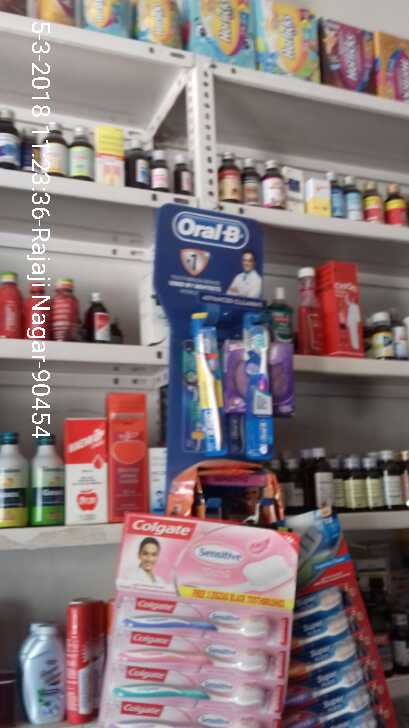oralb: (187, 312, 228, 454), (243, 311, 272, 458)
